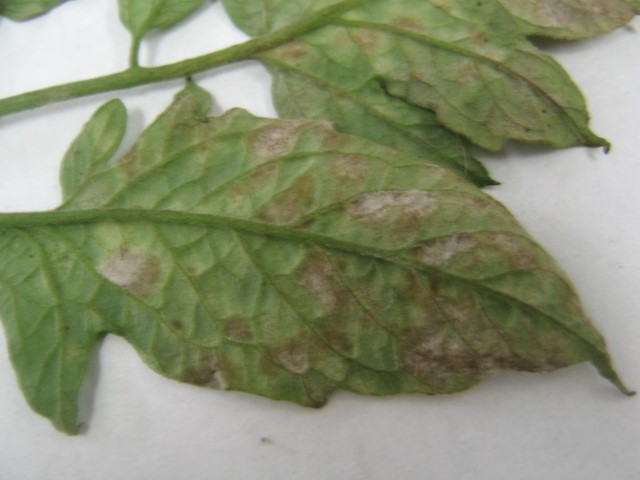negra: (303, 254, 368, 349), (268, 175, 321, 236), (184, 352, 232, 390), (274, 344, 314, 381), (223, 313, 252, 344)
